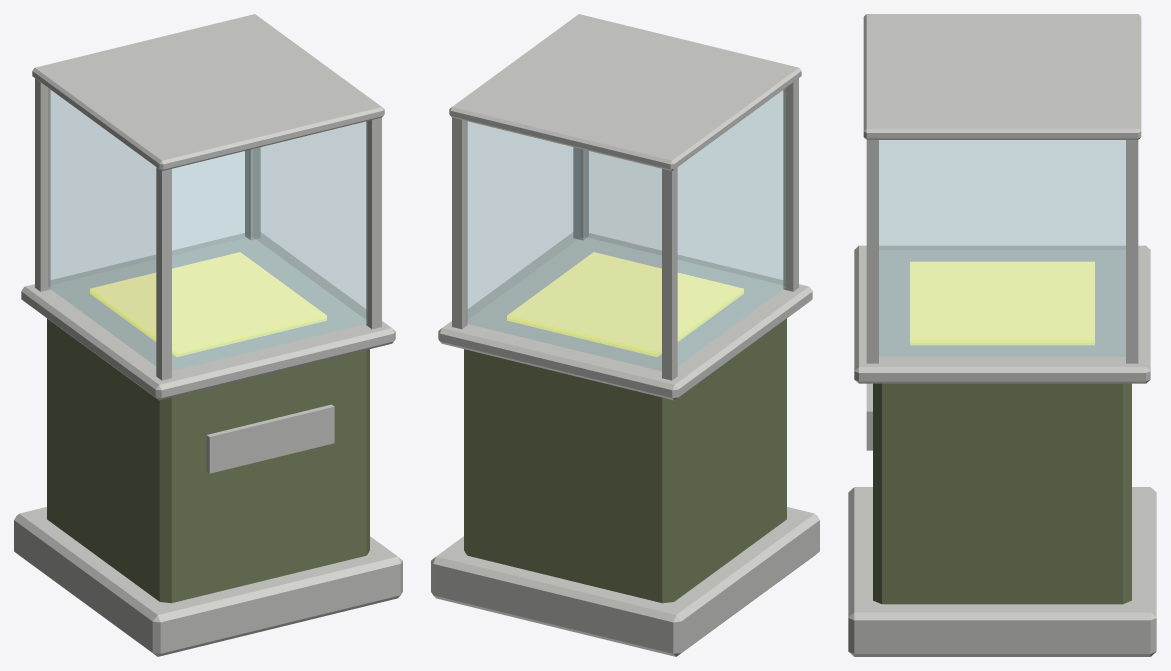
Rendered from lt_trophy_bk.glb.
The picture shows the model from 3 angles, left to right: view 1: azimuth 30°, elevation 25°; view 2: azimuth 150°, elevation 25°; view 3: azimuth 270°, elevation 25°; orthographic projection. The views are drawn at different scales.
Visible parts, largest first — view 1: lt_trophy_bk; view 2: lt_trophy_bk; view 3: lt_trophy_bk.
Boxes of the visible parts, x1,y1,x2,y2 form: lt_trophy_bk: (14, 14, 402, 656); lt_trophy_bk: (431, 14, 819, 656); lt_trophy_bk: (848, 14, 1156, 656).
Bounding box in the file's own units: 1 × 1.87 × 1.
